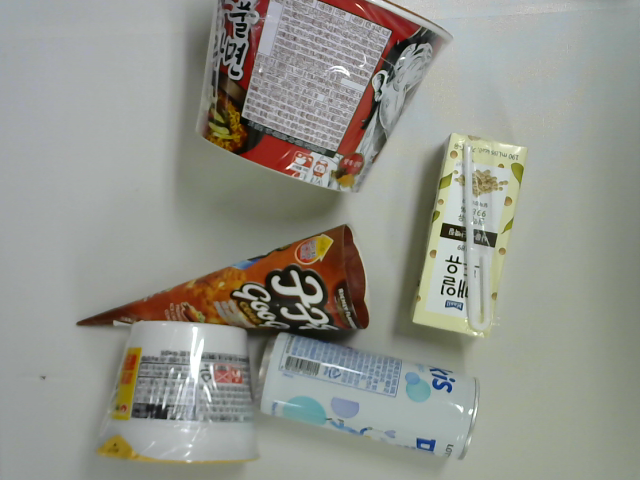99.89_Soymilk: (406, 129, 530, 338)
GooGoo_Cone_CVS: (77, 223, 375, 333)
Hejangmini: (95, 319, 256, 464)
Hejangpul: (194, 1, 456, 196)
Milkies_250ml: (255, 331, 483, 460)
